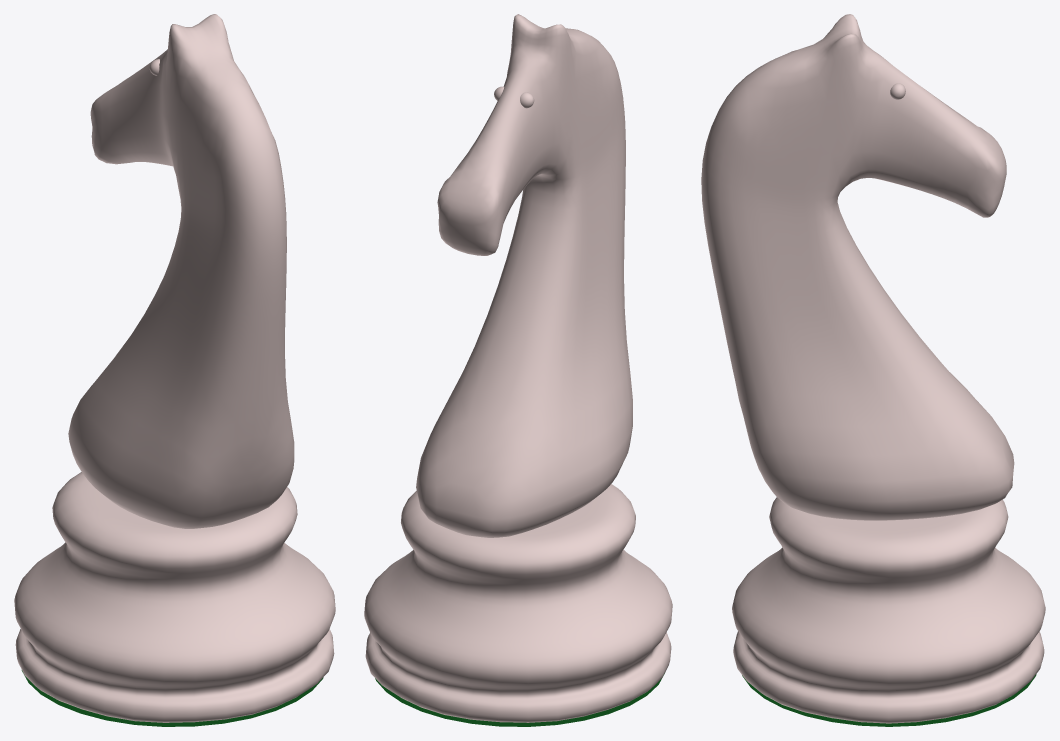
The model's file is kon.obj.
The picture shows the model from 3 angles, left to right: view 1: azimuth 30°, elevation 25°; view 2: azimuth 150°, elevation 25°; view 3: azimuth 270°, elevation 25°; orthographic projection. The views are drawn at different scales.
Parts seen in each view (by area): view 1: Springer-m_Mrke-brikker.004, Springer-m_Filt.004; view 2: Springer-m_Mrke-brikker.004, Springer-m_Filt.004; view 3: Springer-m_Mrke-brikker.004, Springer-m_Filt.004.
Boxes of the visible parts, <box> form: Springer-m_Mrke-brikker.004: <box>14,14,335,722</box>; Springer-m_Filt.004: <box>21,670,323,726</box>; Springer-m_Mrke-brikker.004: <box>364,14,672,722</box>; Springer-m_Filt.004: <box>375,673,664,726</box>; Springer-m_Mrke-brikker.004: <box>701,14,1045,723</box>; Springer-m_Filt.004: <box>742,674,1036,726</box>.
Size of the model in its own units: 3.76 by 8.45 by 4.13.
